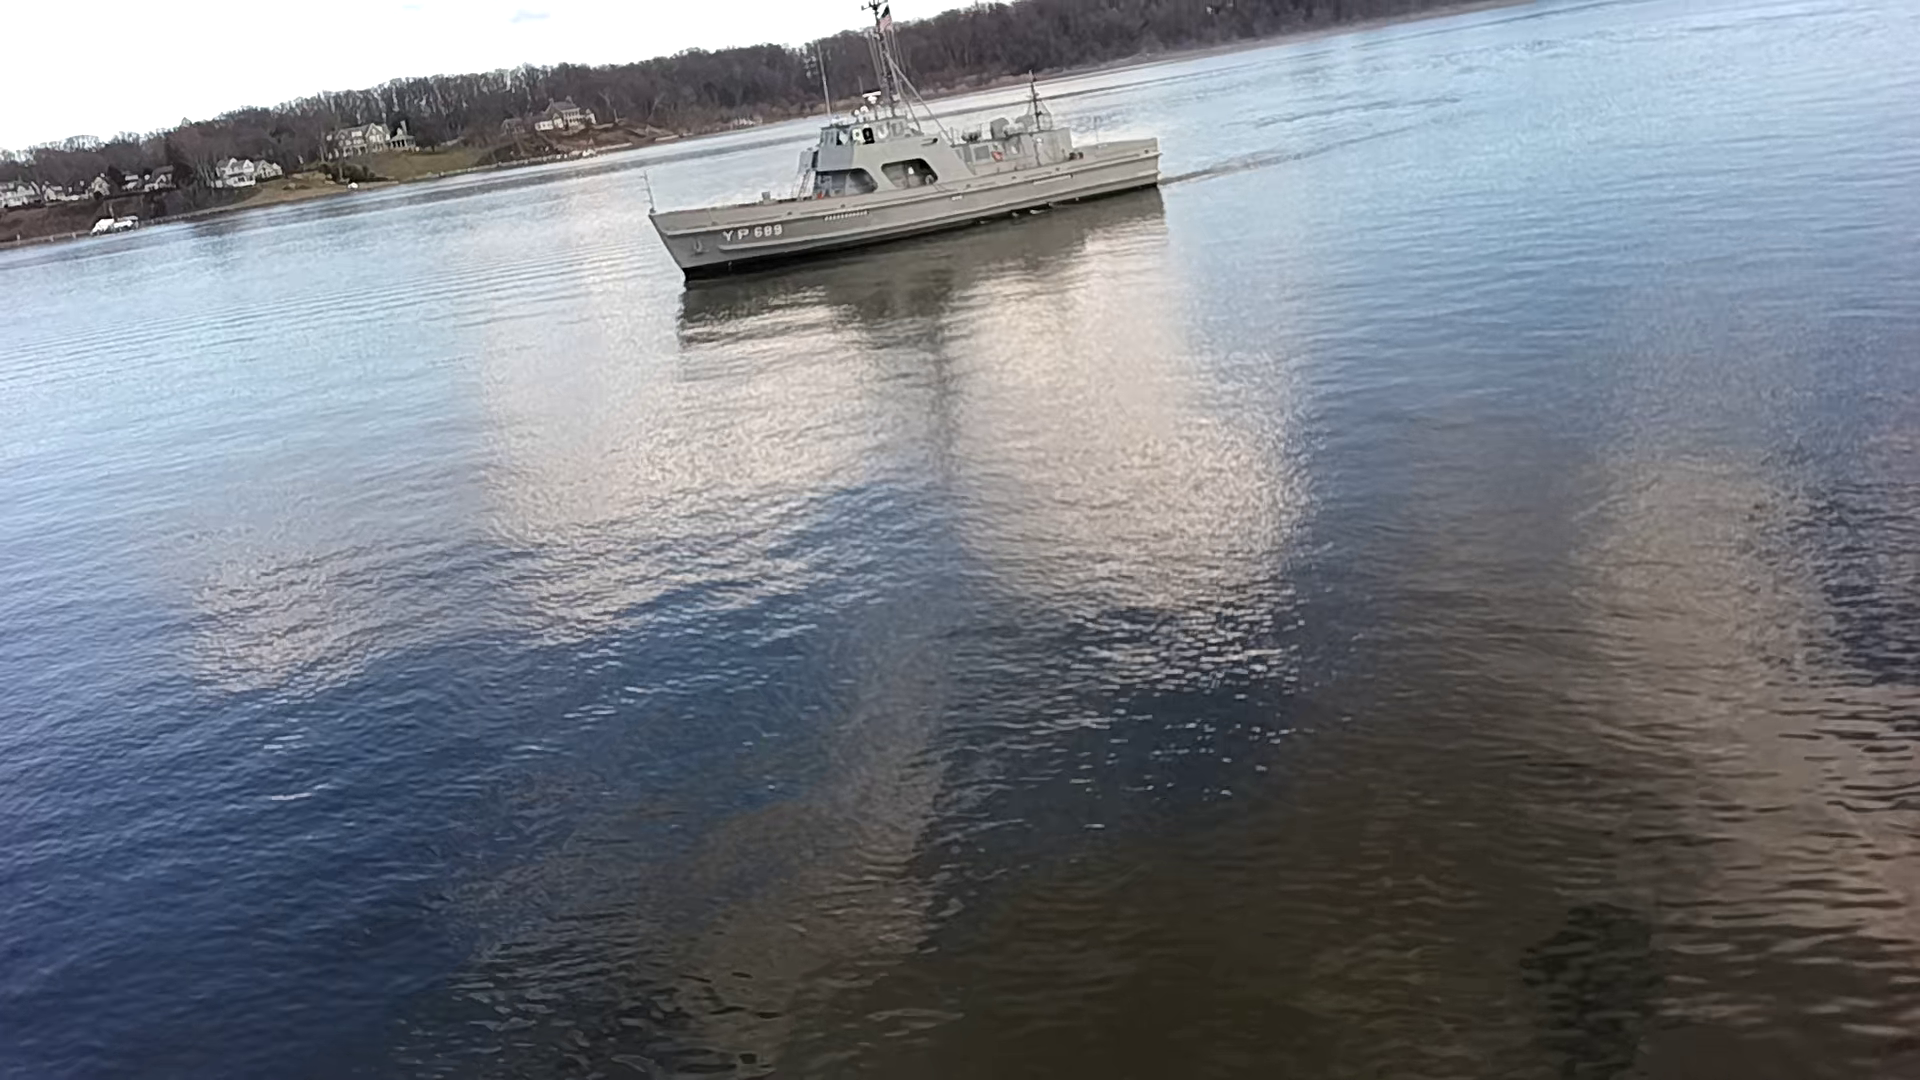YP689: (649, 1, 1160, 281)
